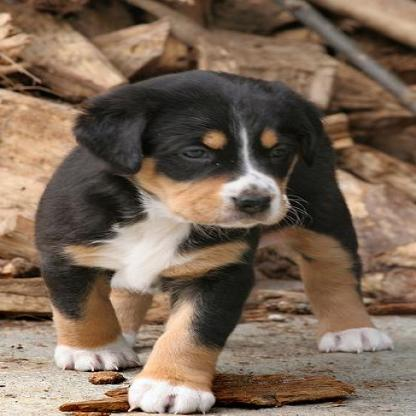Appenzeller: (30, 68, 394, 413)
